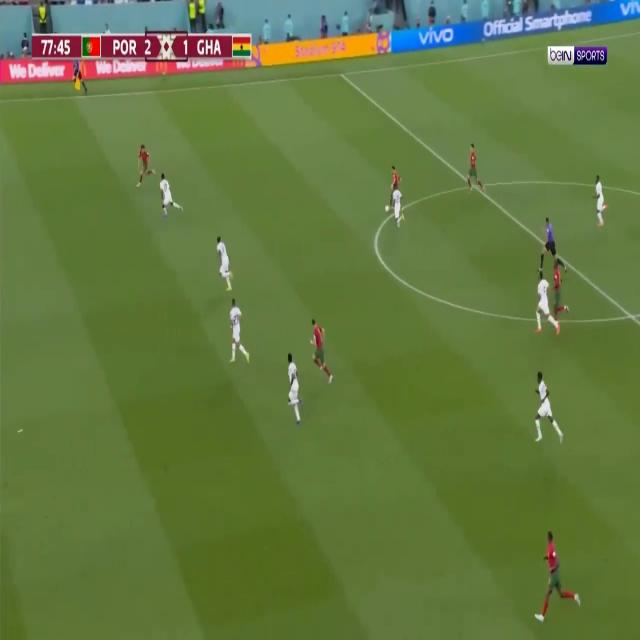Ball: (385, 204, 389, 212)
Referee: (537, 217, 566, 274), (72, 58, 87, 96)
TEAM 1: (309, 318, 334, 384), (550, 260, 568, 324), (467, 140, 485, 193), (138, 145, 156, 186), (390, 165, 404, 192)
TEAM 2: (534, 528, 581, 621), (532, 372, 564, 446), (288, 351, 310, 421), (230, 297, 250, 365), (535, 272, 554, 336), (159, 173, 183, 218), (215, 236, 234, 292), (592, 176, 609, 226), (391, 181, 404, 228)
